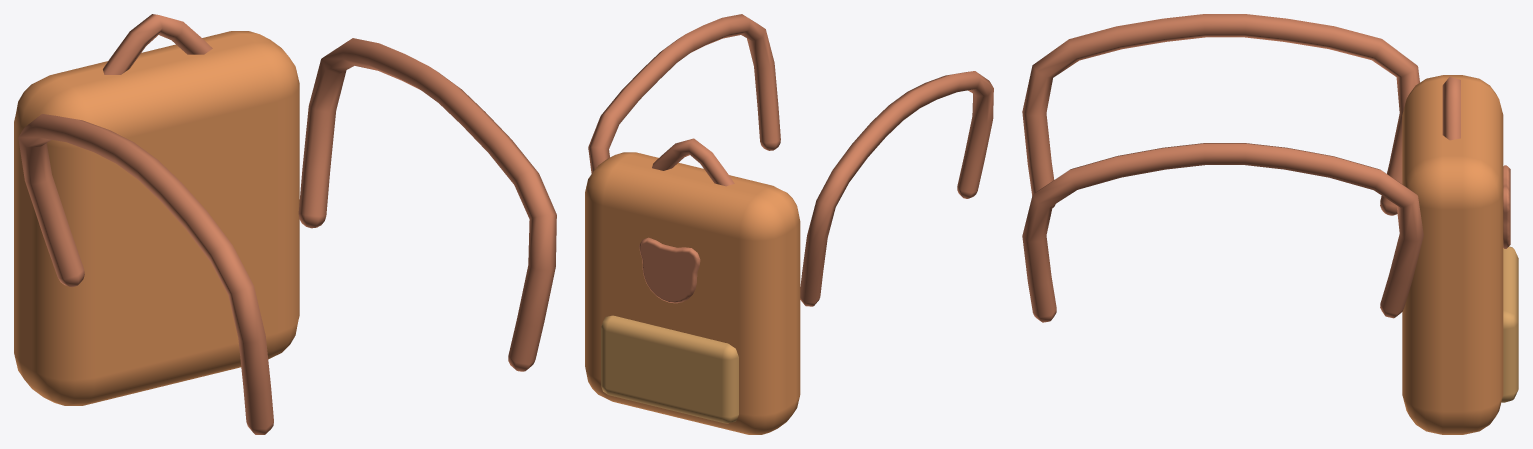
Rendered from bear_backpack.glb.
The picture shows the model from 3 angles, left to right: view 1: azimuth 30°, elevation 25°; view 2: azimuth 150°, elevation 25°; view 3: azimuth 270°, elevation 25°; orthographic projection. The views are drawn at different scales.
Visible parts, largest first — view 1: bear_backpack_Body; view 2: bear_backpack_Body; view 3: bear_backpack_Body.
Boxes of the visible parts, bbox=[...] form: bear_backpack_Body: bbox=[14, 14, 556, 434]; bear_backpack_Body: bbox=[585, 14, 993, 434]; bear_backpack_Body: bbox=[1022, 14, 1518, 434].
Bounding box in the file's own units: 0.327 × 0.3445 × 0.4902.
